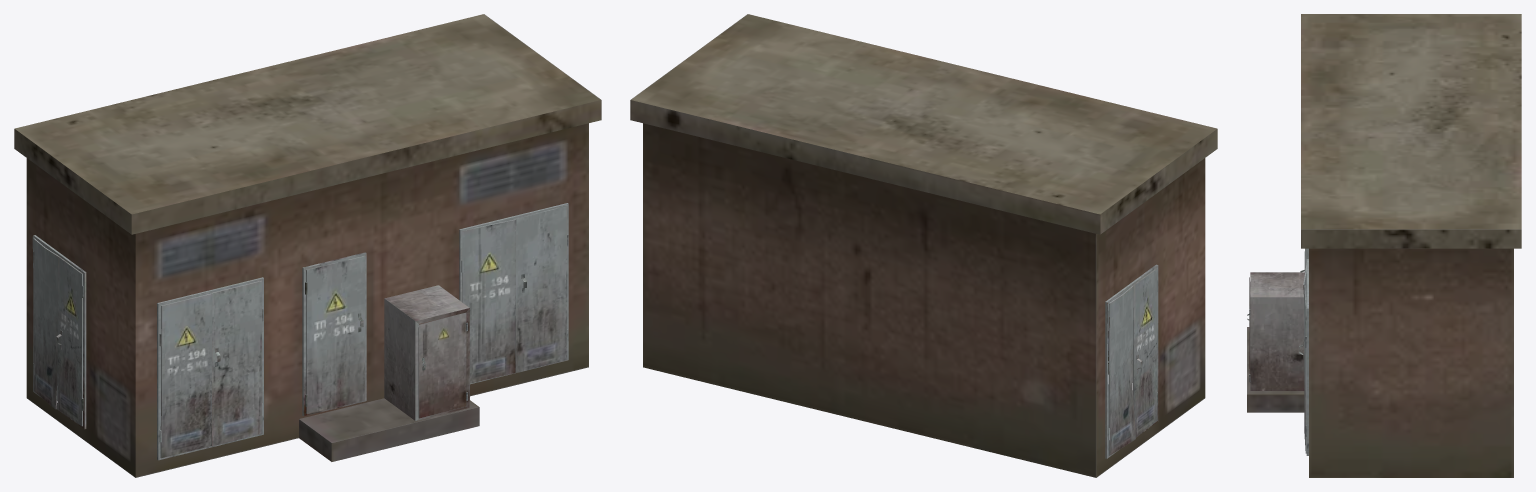
File: transformer-booth.zfix-v1.lod1.glb
3 views of the same model, side by side, from view 1: azimuth 30°, elevation 25°; view 2: azimuth 150°, elevation 25°; view 3: azimuth 270°, elevation 25° (orthographic). The views are drawn at different scales.
Parts seen in each view (by area): view 1: transform_low_brick_0, transform_low_metal_0; view 2: transform_low_brick_0, transform_low_metal_0; view 3: transform_low_brick_0, transform_low_metal_0.
Part boxes in pixels (left/top/right/bottom): transform_low_brick_0: left=14, top=14, right=601, bottom=477; transform_low_metal_0: left=32, top=203, right=568, bottom=460; transform_low_brick_0: left=630, top=14, right=1217, bottom=477; transform_low_metal_0: left=1105, top=264, right=1158, bottom=458; transform_low_brick_0: left=1247, top=14, right=1521, bottom=477; transform_low_metal_0: left=1247, top=248, right=1308, bottom=455.
Size of the model in its own units: 8 by 4.37 by 4.32.
Materials: 2 (2 with a texture image).
